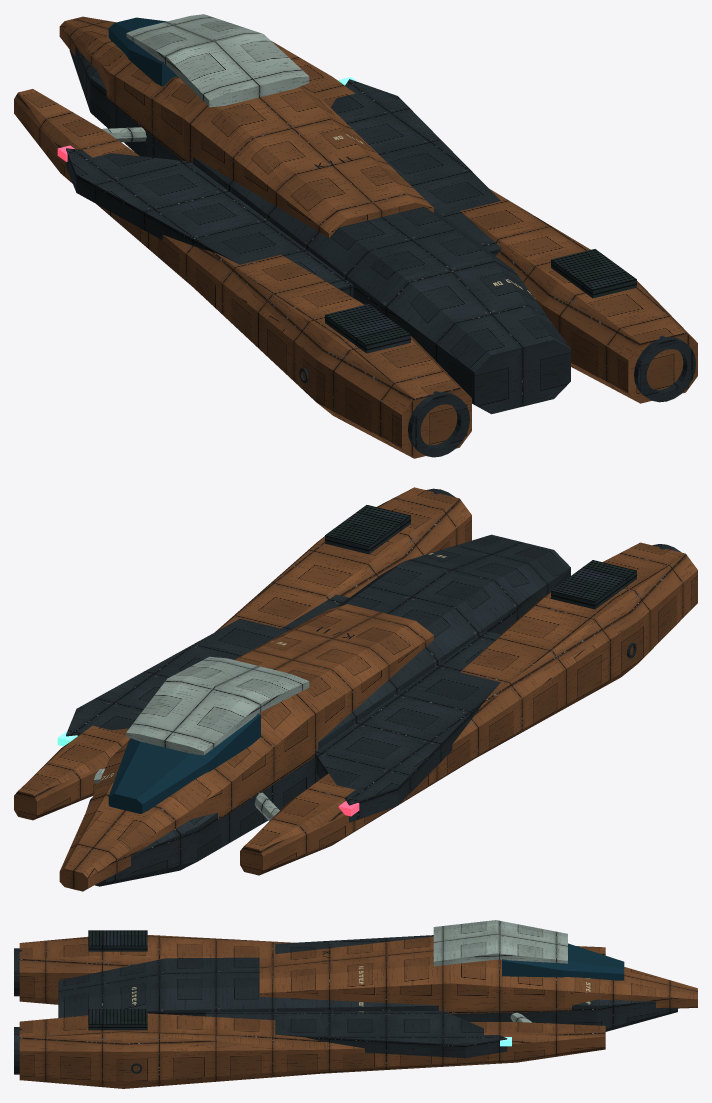
Rendered from ship_kestrelwing.glb.
3 views of the same model, one above another, from view 1: azimuth 30°, elevation 25°; view 2: azimuth 150°, elevation 25°; view 3: azimuth 270°, elevation 25° (orthographic). The views are drawn at different scales.
Visible parts, largest first — view 1: Bronze, Frame, Cream, Thermal, Glass; view 2: Bronze, Frame, Cream, Glass, Thermal; view 3: Bronze, Frame, Cream, Thermal, Glass.
Boxes of the visible parts, x1,y1,x2,y2 form: Bronze: [14, 16, 697, 458]; Frame: [66, 48, 695, 457]; Cream: [102, 14, 309, 142]; Thermal: [325, 249, 636, 353]; Glass: [108, 17, 177, 86]; Bronze: [14, 487, 697, 891]; Frame: [66, 488, 681, 886]; Cream: [94, 656, 309, 821]; Glass: [108, 713, 260, 813]; Thermal: [325, 505, 636, 609]; Bronze: [19, 935, 697, 1088]; Frame: [14, 935, 677, 1074]; Cream: [433, 920, 567, 1022]; Thermal: [88, 930, 147, 1030]; Glass: [502, 943, 624, 980].
Bounding box in the file's own units: 7.46 × 3.24 × 18.83.
Materials: 8 (6 with a texture image).
